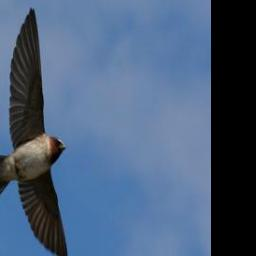Swallow: (0, 6, 69, 256)
